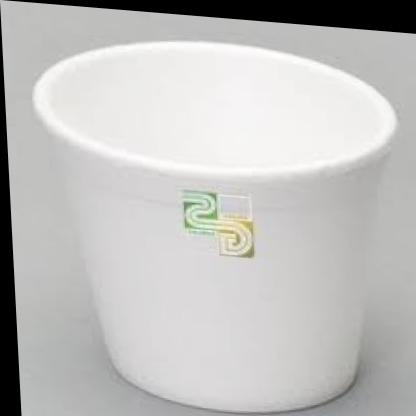trash: (33, 41, 396, 410)
